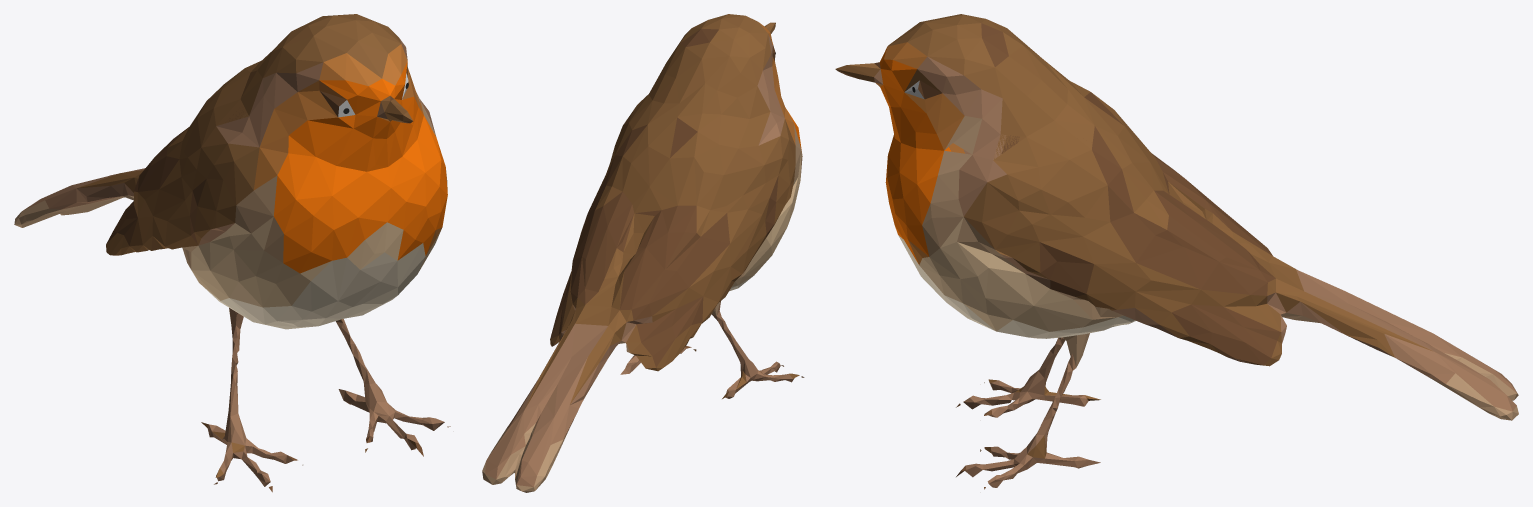
File: birdie.fbx
The picture shows the model from 3 angles, left to right: view 1: azimuth 30°, elevation 25°; view 2: azimuth 150°, elevation 25°; view 3: azimuth 270°, elevation 25°; orthographic projection. The views are drawn at different scales.
Visible parts, largest first — view 1: body, head; view 2: body, head; view 3: body, head.
Boxes of the visible parts, box(x1,y1,x2,y2) form: body: box(14, 70, 450, 492); head: box(214, 14, 423, 158); body: box(482, 94, 804, 492); head: box(630, 14, 784, 157); body: box(885, 92, 1518, 489); head: box(835, 14, 1123, 159).
Size of the model in its own units: 5.21 by 9.47 by 13.9.
Materials: 3 (1 with a texture image).
